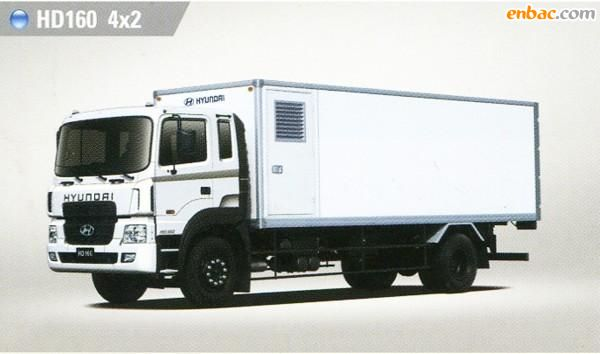truck: (47, 79, 544, 306)
